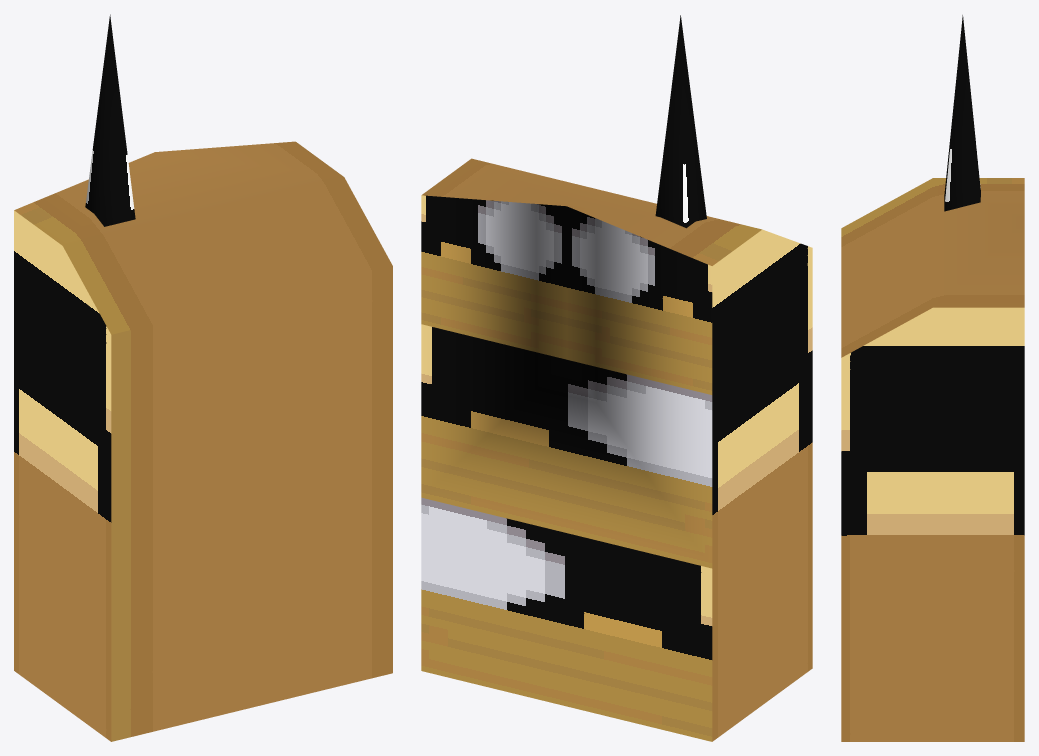
3 renders of one model, left to right at view 1: azimuth 30°, elevation 25°; view 2: azimuth 150°, elevation 25°; view 3: azimuth 270°, elevation 25°, orthographic. The views are drawn at different scales.
Visible parts, largest first — view 1: 3213kg_sh2_05; view 2: 3213kg_sh2_05; view 3: 3213kg_sh2_05.
Part boxes in pixels (<box>): 3213kg_sh2_05: <box>14,14,392,741</box>; 3213kg_sh2_05: <box>421,15,812,741</box>; 3213kg_sh2_05: <box>841,15,1024,741</box>.
Bounding box in the file's own units: 1.12 × 2.53 × 0.6699.
3 materials, 3 textured.
